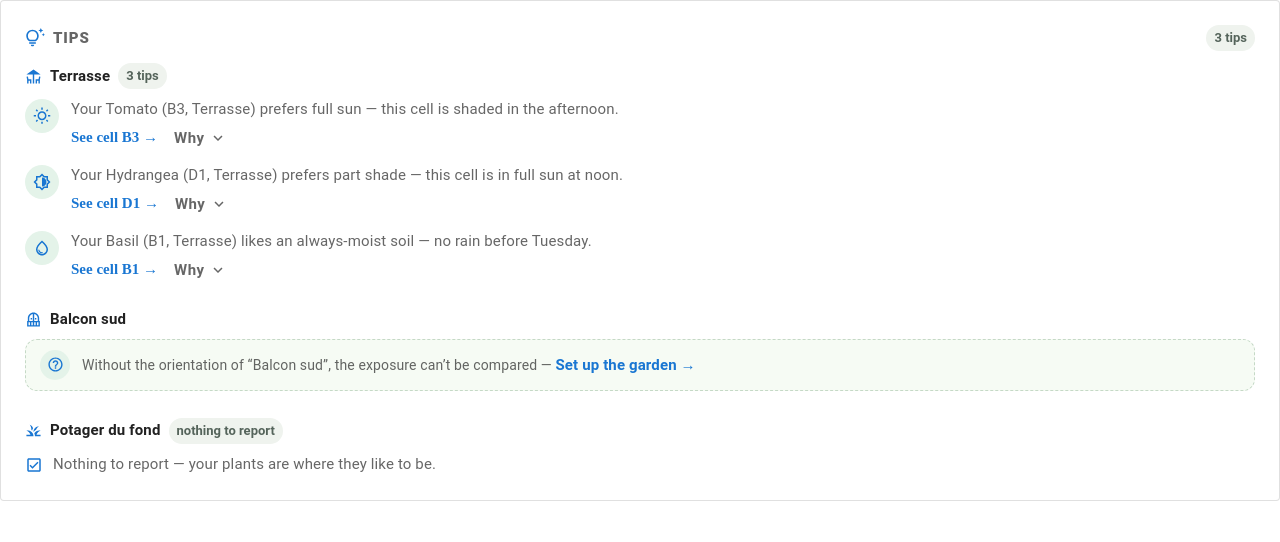
Test: TipsBlock — the derivation runs per input, not per render (S-1) › a « Why » toggle and a same-props render re-run nothing; a new forecast re-runs it once
Click the button "Why" next to "See cell B3 →". click: (200, 138)
box: [174,125,226,151]
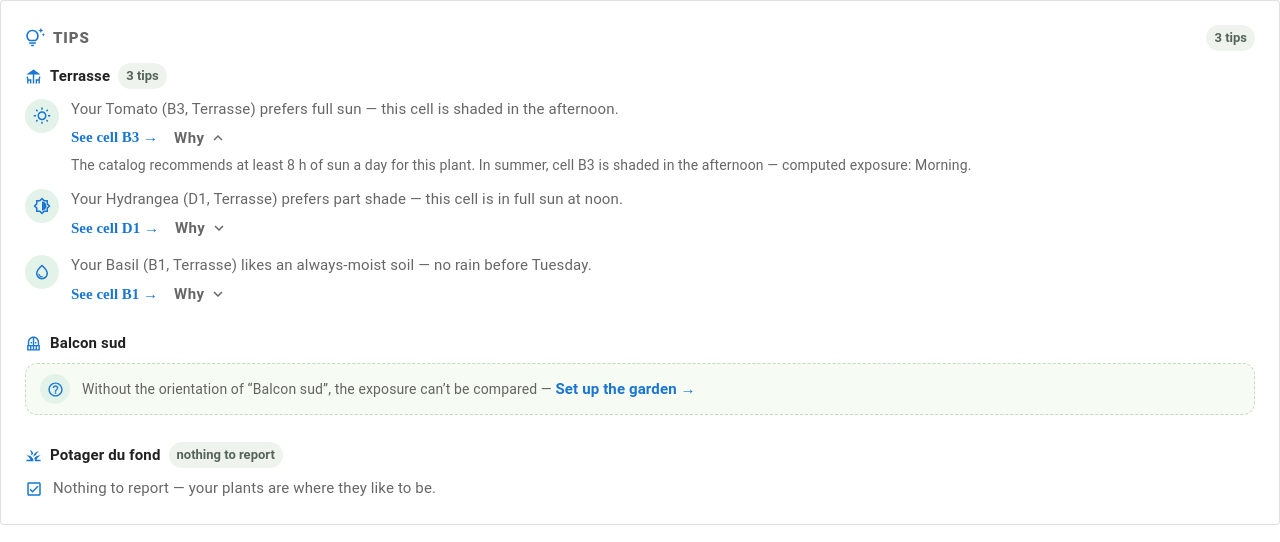
Expected: the button "Why" next to "See cell B3 →" is expanded, [174,125,226,151]
